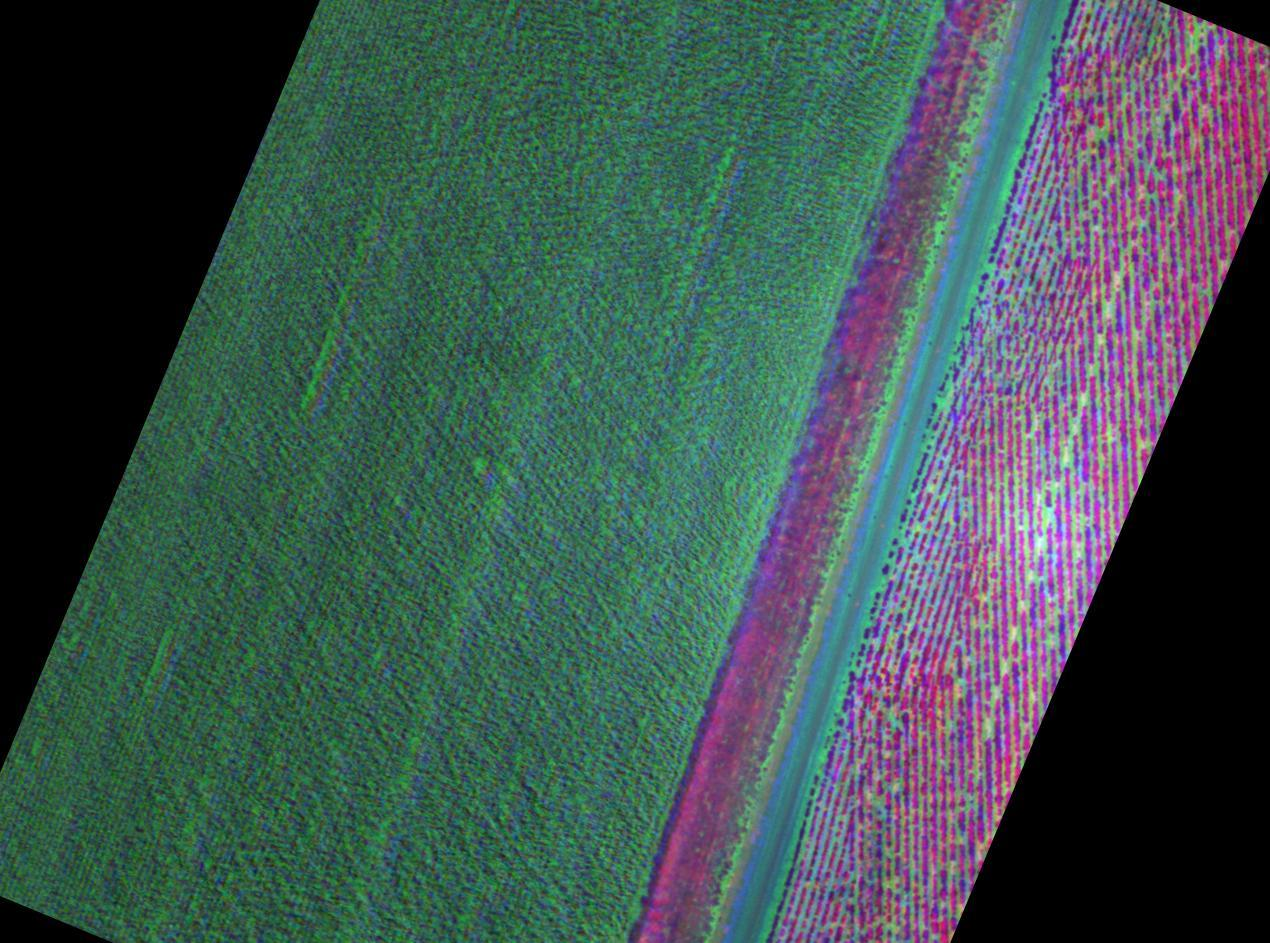dc: (983, 721, 993, 737), (870, 795, 881, 807), (1095, 128, 1107, 138), (1044, 509, 1053, 522), (1104, 304, 1114, 314), (882, 881, 894, 888), (1000, 662, 1009, 671), (884, 709, 892, 719)
